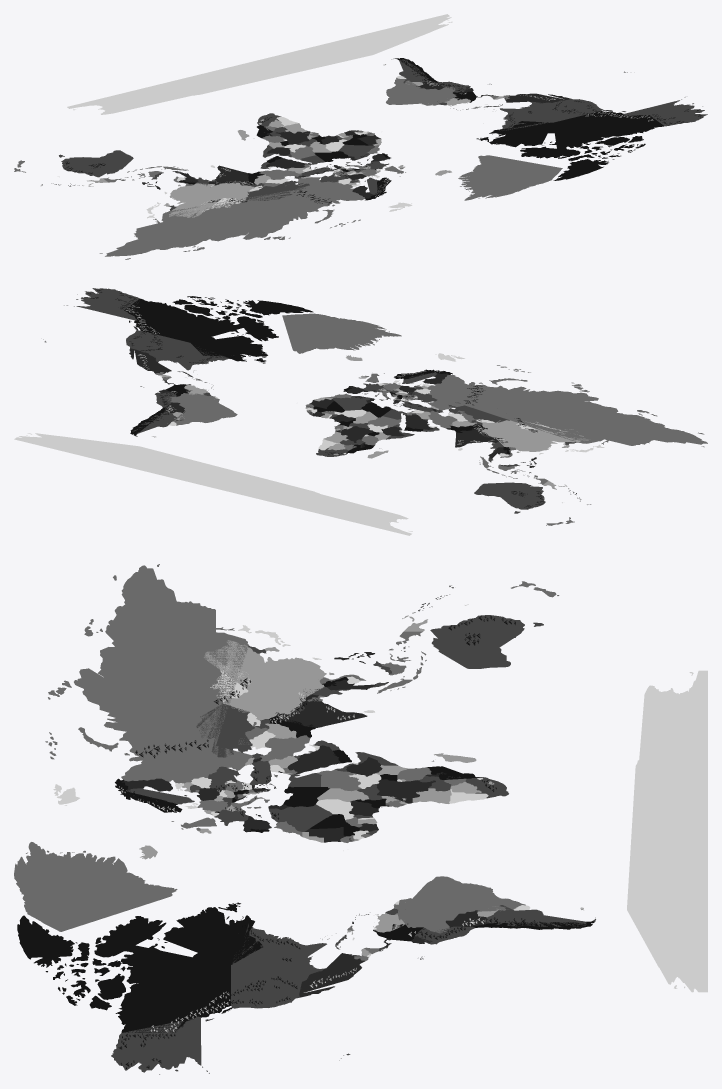
File: World_Map_2D_V2.fbx
The picture shows the model from 3 angles, top to bottom: view 1: azimuth 30°, elevation 25°; view 2: azimuth 150°, elevation 25°; view 3: azimuth 270°, elevation 25°; orthographic projection. The views are drawn at different scales.
Parts seen in each view (by area): view 1: Russia_2D_V2, Antarctica_2D_V2, Canada_2D_V2, United_States_2D_V2, Greenland_2D_V2, China_2D_V2, Brazil_2D_V2, Australia_2D_V2, World_Mountains_2D_V2, Kazakhstan_2D_V2, India_2D_V2, Mexico_2D_V2 (+1 smaller); view 2: Russia_2D_V2, Antarctica_2D_V2, Canada_2D_V2, United_States_2D_V2, Greenland_2D_V2, China_2D_V2, Brazil_2D_V2, Australia_2D_V2, World_Mountains_2D_V2, India_2D_V2, Mexico_2D_V2, Kazakhstan_2D_V2 (+1 smaller); view 3: Russia_2D_V2, Antarctica_2D_V2, Canada_2D_V2, United_States_2D_V2, Greenland_2D_V2, China_2D_V2, Brazil_2D_V2, Australia_2D_V2, World_Mountains_2D_V2, Kazakhstan_2D_V2, India_2D_V2, Mexico_2D_V2 (+5 smaller).
Boxes of the visible parts, bbox=[...] form: Russia_2D_V2: bbox=[99, 177, 365, 259]; Antarctica_2D_V2: bbox=[67, 14, 452, 114]; Canada_2D_V2: bbox=[476, 110, 664, 180]; United_States_2D_V2: bbox=[499, 71, 707, 130]; Greenland_2D_V2: bbox=[458, 155, 562, 200]; China_2D_V2: bbox=[169, 182, 254, 217]; Brazil_2D_V2: bbox=[386, 77, 456, 105]; Australia_2D_V2: bbox=[59, 150, 133, 177]; World_Mountains_2D_V2: bbox=[64, 60, 701, 204]; Kazakhstan_2D_V2: bbox=[245, 180, 309, 200]; India_2D_V2: bbox=[208, 165, 248, 185]; Mexico_2D_V2: bbox=[505, 93, 571, 103]; Russia_2D_V2: bbox=[412, 365, 707, 447]; Antarctica_2D_V2: bbox=[14, 433, 412, 535]; Canada_2D_V2: bbox=[124, 296, 313, 363]; United_States_2D_V2: bbox=[43, 288, 233, 370]; Greenland_2D_V2: bbox=[282, 313, 401, 353]; China_2D_V2: bbox=[481, 420, 588, 452]; Brazil_2D_V2: bbox=[167, 393, 237, 425]; Australia_2D_V2: bbox=[474, 482, 545, 513]; World_Mountains_2D_V2: bbox=[88, 289, 543, 508]; India_2D_V2: bbox=[455, 427, 502, 447]; Mexico_2D_V2: bbox=[129, 348, 171, 373]; Kazakhstan_2D_V2: bbox=[448, 402, 509, 422]; Russia_2D_V2: bbox=[45, 564, 252, 792]; Antarctica_2D_V2: bbox=[627, 670, 707, 992]; Canada_2D_V2: bbox=[17, 902, 262, 1032]; United_States_2D_V2: bbox=[111, 924, 350, 1074]; Greenland_2D_V2: bbox=[14, 842, 177, 931]; China_2D_V2: bbox=[204, 640, 334, 720]; Brazil_2D_V2: bbox=[396, 876, 525, 933]; Australia_2D_V2: bbox=[430, 615, 543, 668]; World_Mountains_2D_V2: bbox=[118, 615, 584, 1068]; Kazakhstan_2D_V2: bbox=[196, 703, 254, 757]; India_2D_V2: bbox=[276, 694, 367, 727]; Mexico_2D_V2: bbox=[299, 953, 365, 997].
Bounding box in the file's own units: 6098 × 10 × 3501.
